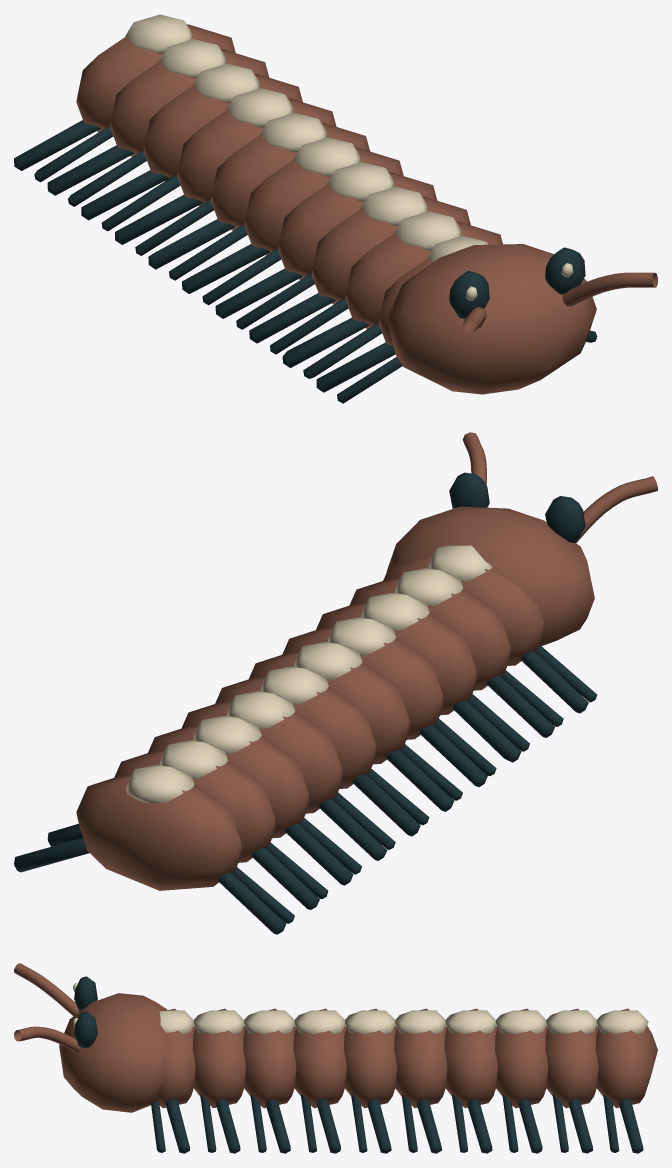
File: org_arthropleura.glb
The picture shows the model from 3 angles, top to bottom: view 1: azimuth 30°, elevation 25°; view 2: azimuth 150°, elevation 25°; view 3: azimuth 270°, elevation 25°; orthographic projection. The views are drawn at different scales.
Visible parts, largest first — view 1: Body, Head, Eye_R, Eye_L; view 2: Body, Head, Eye_L, Eye_R; view 3: Body, Head, Eye_R, Eye_L.
Part boxes in pixels (<box>): Body: <box>14,14,597,403</box>; Head: <box>386,244,657,394</box>; Eye_R: <box>545,247,585,294</box>; Eye_L: <box>449,271,489,318</box>; Body: <box>14,545,597,934</box>; Head: <box>386,432,657,646</box>; Eye_L: <box>545,496,585,542</box>; Eye_R: <box>449,472,489,508</box>; Body: <box>151,1008,657,1153</box>; Head: <box>14,963,169,1112</box>; Eye_R: <box>73,1011,97,1047</box>; Eye_L: <box>73,976,97,1011</box>.
Size of the model in its own units: 0.9012 by 0.48 by 2.49.
